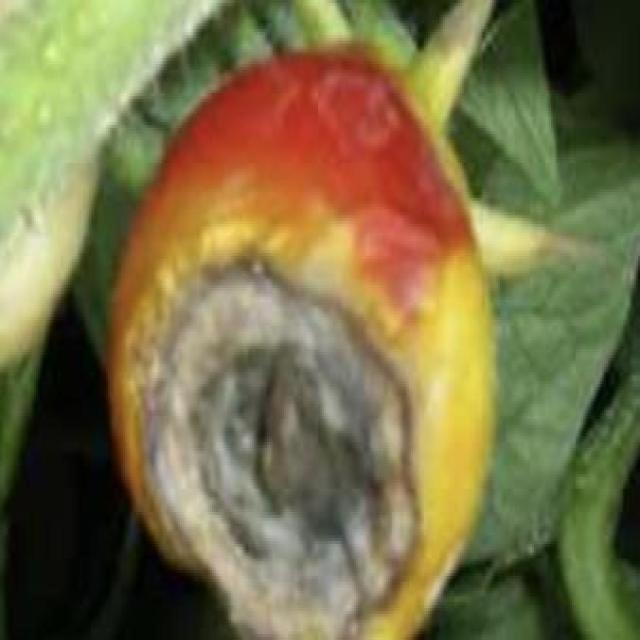Blossom End Rot Fruit: (81, 163, 301, 427)
